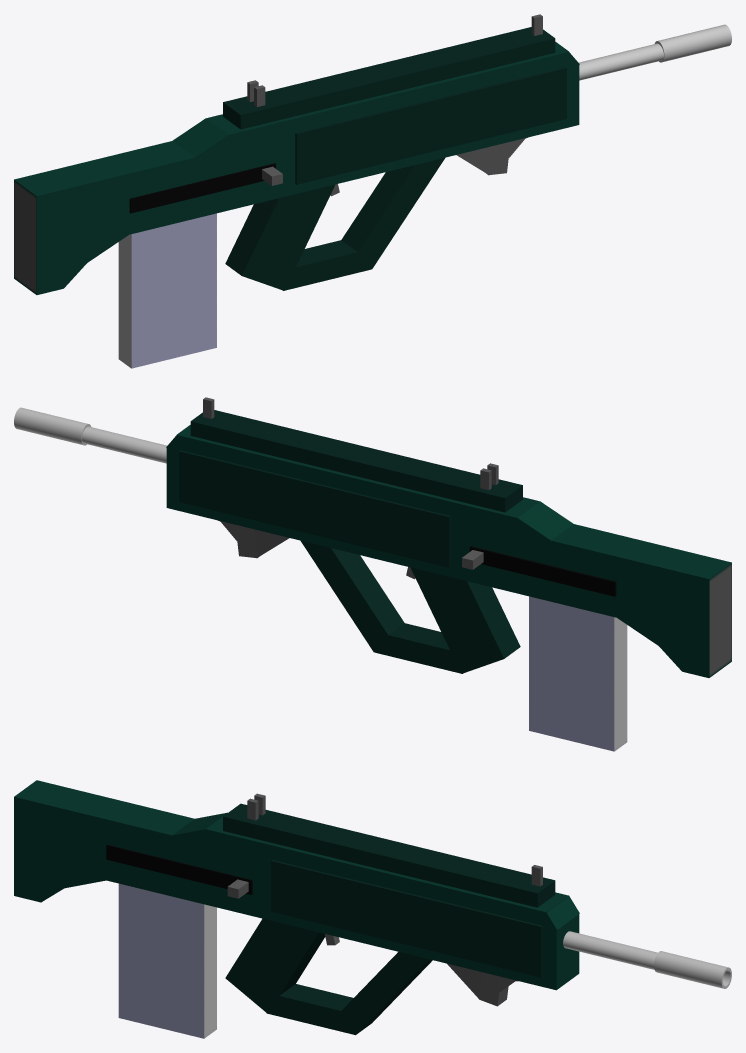
Rendered from rifle.glb.
The picture shows the model from 3 angles, top to bottom: view 1: azimuth 30°, elevation 25°; view 2: azimuth 150°, elevation 25°; view 3: azimuth 330°, elevation 25°; orthographic projection.
Visible parts, largest first — view 1: mesh_id27, mesh_id199, mesh_id59, mesh_id140, mesh_id112, mesh_id48, mesh_id80, mesh_id36, mesh_id42, mesh_id187, mesh_id68, mesh_id134 (+3 smaller); view 2: mesh_id27, mesh_id199, mesh_id59, mesh_id140, mesh_id112, mesh_id48, mesh_id80, mesh_id36, mesh_id42, mesh_id187, mesh_id74, mesh_id134 (+4 smaller); view 3: mesh_id27, mesh_id199, mesh_id59, mesh_id140, mesh_id112, mesh_id48, mesh_id80, mesh_id36, mesh_id42, mesh_id187, mesh_id134, mesh_id132 (+6 smaller).
Part boxes in pixels (x1,y1,x2,y2): mesh_id27: (41, 64, 579, 253); mesh_id199: (295, 67, 566, 184); mesh_id59: (118, 213, 216, 368); mesh_id140: (223, 27, 555, 129); mesh_id112: (206, 42, 569, 149); mesh_id48: (225, 184, 335, 290); mesh_id80: (14, 173, 63, 294); mesh_id36: (341, 158, 444, 269); mesh_id42: (283, 240, 371, 290); mesh_id187: (129, 163, 275, 213); mesh_id68: (71, 191, 146, 264); mesh_id134: (654, 24, 731, 62); mesh_id27: (166, 447, 704, 635); mesh_id199: (179, 450, 450, 567); mesh_id59: (529, 596, 627, 751); mesh_id140: (190, 410, 522, 512); mesh_id112: (176, 425, 539, 531); mesh_id48: (410, 567, 520, 673); mesh_id80: (682, 556, 731, 677); mesh_id36: (301, 541, 404, 652); mesh_id42: (374, 623, 462, 673); mesh_id187: (469, 546, 616, 596); mesh_id74: (629, 595, 704, 670); mesh_id134: (14, 407, 91, 445); mesh_id27: (30, 787, 579, 990); mesh_id199: (271, 860, 542, 977); mesh_id59: (118, 883, 216, 1038); mesh_id140: (223, 803, 555, 907); mesh_id112: (205, 816, 568, 926); mesh_id48: (225, 918, 325, 1013); mesh_id80: (14, 780, 63, 902); mesh_id36: (337, 952, 432, 1035); mesh_id42: (266, 984, 354, 1034); mesh_id187: (106, 844, 252, 894); mesh_id134: (654, 951, 731, 988); mesh_id132: (563, 931, 657, 969).
Bounding box in the file's own units: 0.998 × 0.336 × 0.1122.
Materials: 25 (25 with a texture image).
